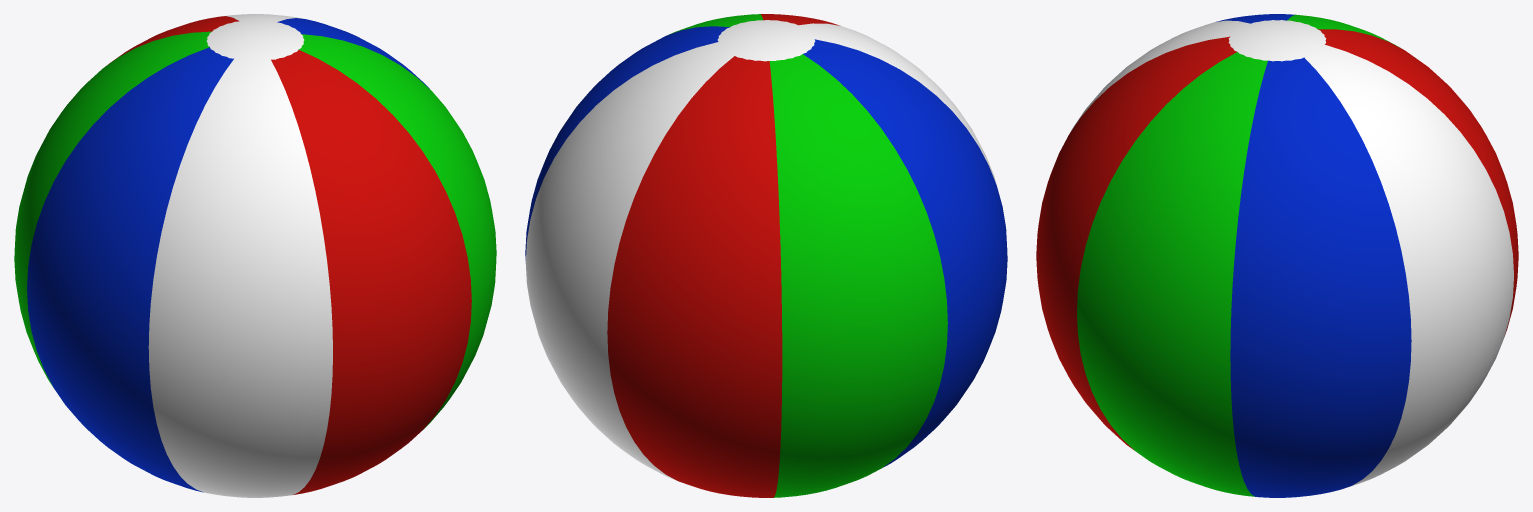
The model's file is lopta.fbx.
The picture shows the model from 3 angles, left to right: view 1: azimuth 30°, elevation 25°; view 2: azimuth 150°, elevation 25°; view 3: azimuth 270°, elevation 25°; orthographic projection.
Parts seen in each view (by area): view 1: Sphere; view 2: Sphere; view 3: Sphere.
Boxes of the visible parts, left/top/right/bottom form: Sphere: left=14, top=14, right=496, bottom=497; Sphere: left=525, top=14, right=1007, bottom=497; Sphere: left=1036, top=14, right=1518, bottom=497.
Size of the model in its own units: 1.98 by 1.98 by 2.
